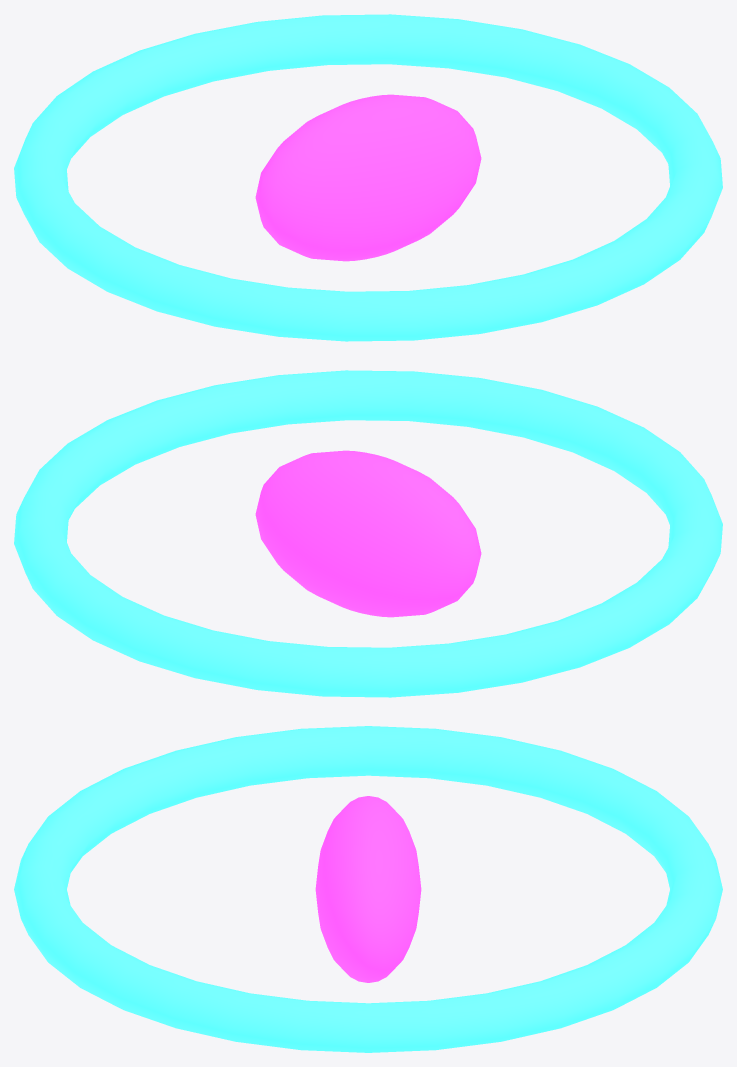
Rendered from EyeShield.fbx.
The picture shows the model from 3 angles, top to bottom: view 1: azimuth 30°, elevation 25°; view 2: azimuth 150°, elevation 25°; view 3: azimuth 270°, elevation 25°; orthographic projection.
Visible parts, largest first — view 1: VFX_EyeShield; view 2: VFX_EyeShield; view 3: VFX_EyeShield.
Part boxes in pixels (left/top/right/bottom): VFX_EyeShield: left=14, top=14, right=722, bottom=341; VFX_EyeShield: left=14, top=370, right=722, bottom=697; VFX_EyeShield: left=14, top=726, right=722, bottom=1052.
Bounding box in the file's own units: 1.34 × 0.32 × 1.34.
